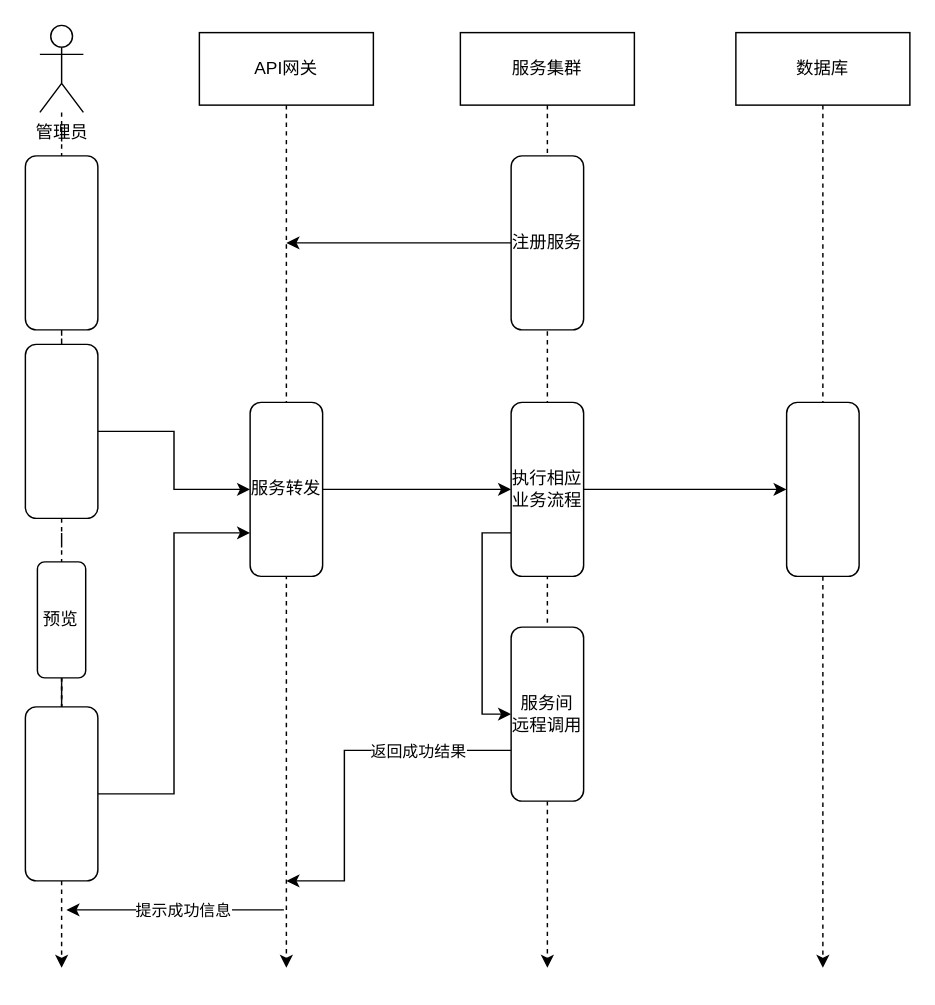
Image size: 935x1005. Some labels were removed from this diagram. The shapes that lost their labels are listed below. From the top down, each one's centre as x and y in pixels, then its label:
At (61,242): "访问 后台管理 系统".
At (61,430): "查看 资讯列表".
At (822,488): "读取 写入 数据库".
At (61,793): "新增 编辑 删除 等操作".
